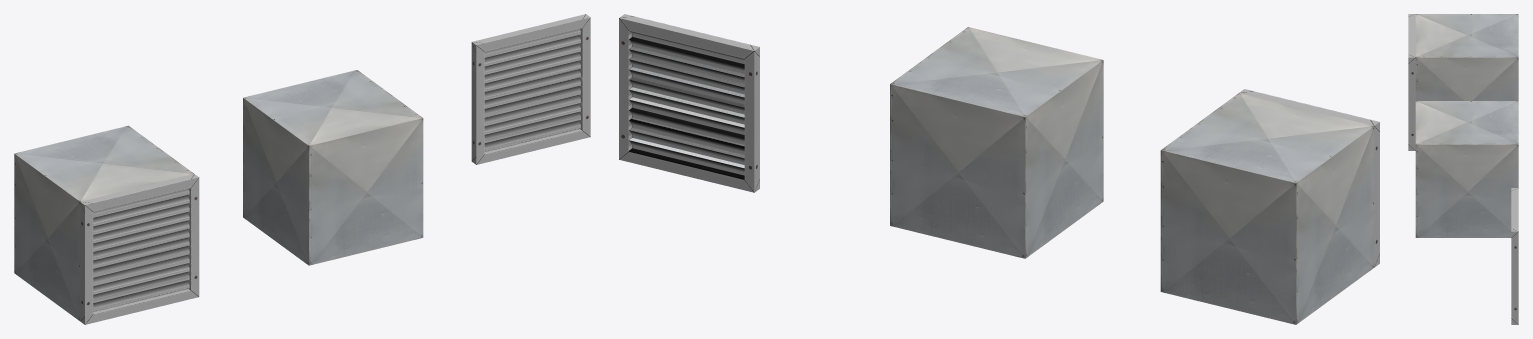
File: ventilation_duct_set_-_low_poly.glb
The picture shows the model from 3 angles, left to right: view 1: azimuth 30°, elevation 25°; view 2: azimuth 150°, elevation 25°; view 3: azimuth 270°, elevation 25°; orthographic projection. The views are drawn at different scales.
Parts seen in each view (by area): view 1: ducto_4, tapa y ducto_1, tapa_2, tapa _6; view 2: tapa y ducto_1, ducto_4, tapa _6, tapa_2; view 3: ducto_4, tapa y ducto_1, tapa_2, tapa _6.
Boxes of the visible parts, x1,y1,x2,y2 form: ducto_4: (243, 70, 423, 265); tapa y ducto_1: (14, 125, 193, 320); tapa_2: (80, 174, 199, 324); tapa _6: (471, 14, 590, 164); tapa y ducto_1: (1160, 93, 1374, 324); ducto_4: (890, 27, 1103, 258); tapa _6: (619, 14, 759, 192); tapa_2: (1239, 89, 1379, 267); ducto_4: (1415, 101, 1518, 237); tapa y ducto_1: (1415, 14, 1518, 100); tapa_2: (1408, 14, 1415, 150); tapa _6: (1511, 188, 1518, 324).
Size of the model in its own units: 5 by 1 by 1.07.
Materials: 4 (4 with a texture image).
